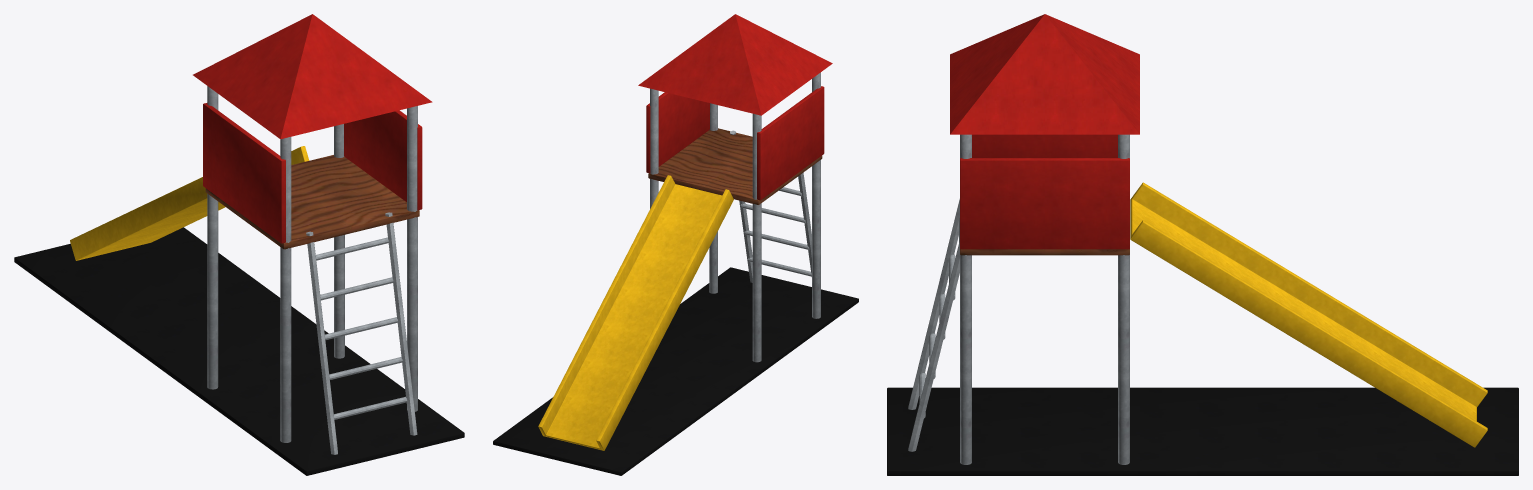
Rendered from PAV-MOB-006_lod1.glb.
The picture shows the model from 3 angles, left to right: view 1: azimuth 30°, elevation 25°; view 2: azimuth 150°, elevation 25°; view 3: azimuth 270°, elevation 25°; orthographic projection. The views are drawn at different scales.
Parts seen in each view (by area): view 1: PAV-MOB-006_piso, PAV-MOB-006_telhado, PAV-MOB-006_plataforma, PAV-MOB-006_guarda0, PAV-MOB-006_rampa, PAV-MOB-006_guarda9, PAV-MOB-006_poste11, PAV-MOB-006_poste91, PAV-MOB-006_poste19, PAV-MOB-006_escada2, PAV-MOB-006_escada7, PAV-MOB-006_poste99 (+5 smaller); view 2: PAV-MOB-006_piso, PAV-MOB-006_rampa, PAV-MOB-006_telhado, PAV-MOB-006_plataforma, PAV-MOB-006_guarda0, PAV-MOB-006_guarda9, PAV-MOB-006_poste19, PAV-MOB-006_poste11, PAV-MOB-006_poste99, PAV-MOB-006_poste91, PAV-MOB-006_escada2, PAV-MOB-006_escada7; view 3: PAV-MOB-006_piso, PAV-MOB-006_rampa, PAV-MOB-006_telhado, PAV-MOB-006_guarda9, PAV-MOB-006_guarda0, PAV-MOB-006_poste91, PAV-MOB-006_poste99, PAV-MOB-006_escada7, PAV-MOB-006_escada2, PAV-MOB-006_plataforma.
Boxes of the visible parts, bbox=[...] form: PAV-MOB-006_piso: bbox=[14, 227, 464, 475]; PAV-MOB-006_telhado: bbox=[193, 14, 432, 139]; PAV-MOB-006_plataforma: bbox=[205, 155, 419, 249]; PAV-MOB-006_guarda0: bbox=[203, 103, 285, 243]; PAV-MOB-006_rampa: bbox=[70, 146, 309, 260]; PAV-MOB-006_guarda9: bbox=[344, 110, 422, 210]; PAV-MOB-006_poste11: bbox=[280, 137, 291, 442]; PAV-MOB-006_poste91: bbox=[407, 106, 417, 411]; PAV-MOB-006_poste19: bbox=[207, 86, 218, 389]; PAV-MOB-006_escada2: bbox=[306, 231, 337, 454]; PAV-MOB-006_escada7: bbox=[385, 212, 417, 435]; PAV-MOB-006_poste99: bbox=[334, 124, 344, 358]; PAV-MOB-006_piso: bbox=[493, 267, 858, 475]; PAV-MOB-006_rampa: bbox=[538, 175, 733, 450]; PAV-MOB-006_telhado: bbox=[638, 14, 832, 115]; PAV-MOB-006_plataforma: bbox=[648, 128, 822, 204]; PAV-MOB-006_guarda0: bbox=[757, 86, 824, 200]; PAV-MOB-006_guarda9: bbox=[646, 92, 709, 173]; PAV-MOB-006_poste19: bbox=[752, 113, 761, 362]; PAV-MOB-006_poste11: bbox=[812, 72, 820, 318]; PAV-MOB-006_poste99: bbox=[650, 88, 658, 208]; PAV-MOB-006_poste91: bbox=[709, 103, 717, 293]; PAV-MOB-006_escada2: bbox=[798, 172, 811, 273]; PAV-MOB-006_escada7: bbox=[730, 130, 752, 282]; PAV-MOB-006_piso: bbox=[887, 387, 1518, 475]; PAV-MOB-006_rampa: bbox=[1130, 182, 1487, 447]; PAV-MOB-006_telhado: bbox=[950, 14, 1139, 134]; PAV-MOB-006_guarda9: bbox=[960, 158, 1129, 249]; PAV-MOB-006_guarda0: bbox=[972, 134, 1117, 157]; PAV-MOB-006_poste91: bbox=[960, 134, 971, 464]; PAV-MOB-006_poste99: bbox=[1118, 134, 1129, 464]; PAV-MOB-006_escada7: bbox=[908, 240, 959, 451]; PAV-MOB-006_escada2: bbox=[908, 199, 959, 409]; PAV-MOB-006_plataforma: bbox=[960, 249, 1129, 255].
Bounding box in the file's own units: 1 × 2.35 × 3.2.
Materials: 5 (5 with a texture image).
